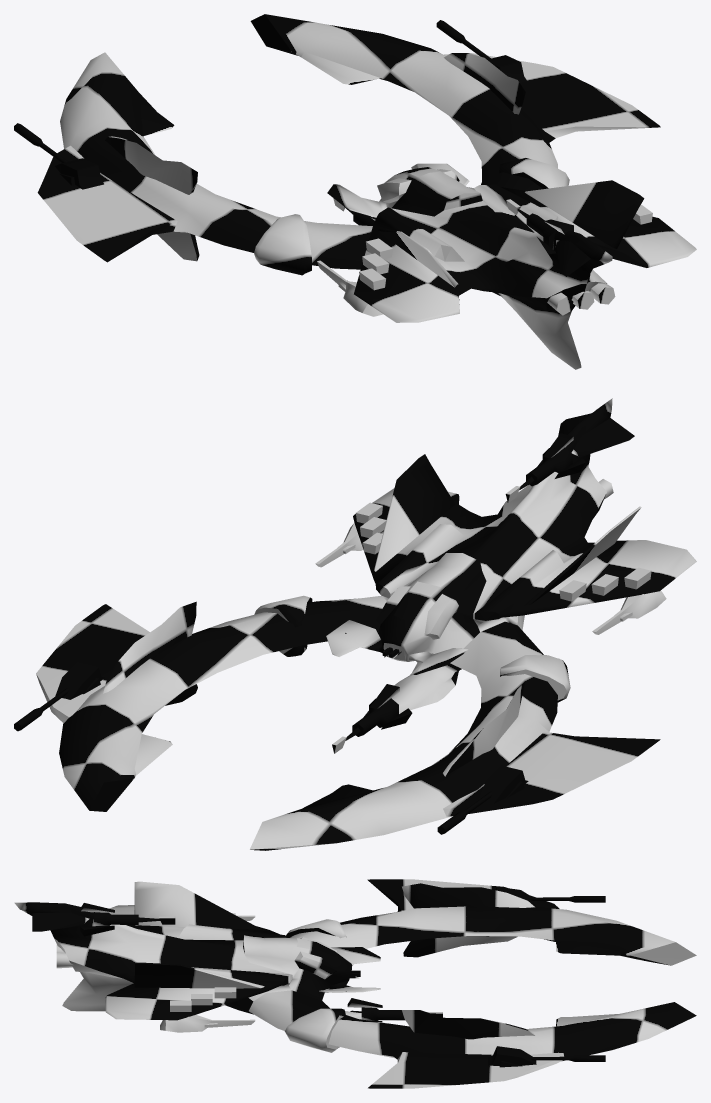
Rendered from goliath_angled_wings.obj.
3 views of the same model, one above another, from view 1: azimuth 30°, elevation 25°; view 2: azimuth 150°, elevation 25°; view 3: azimuth 270°, elevation 25° (orthographic). The views are drawn at different scales.
Parts seen in each view (by area): view 1: main; view 2: main; view 3: main.
Boxes of the visible parts, x1,y1,x2,y2 form: main: (14,14,696,369); main: (14,398,696,850); main: (14,879,696,1088).
Size of the model in its own units: 145 by 40.17 by 200.
1 material, 1 textured.
